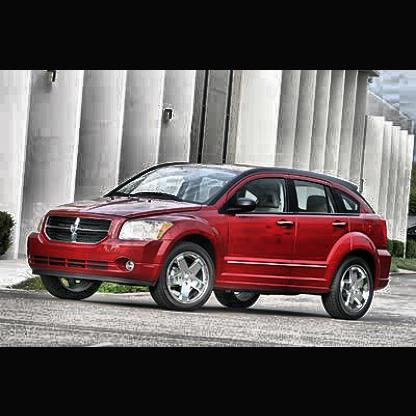Dodge Caliber Wagon 2012: (28, 164, 392, 323)
